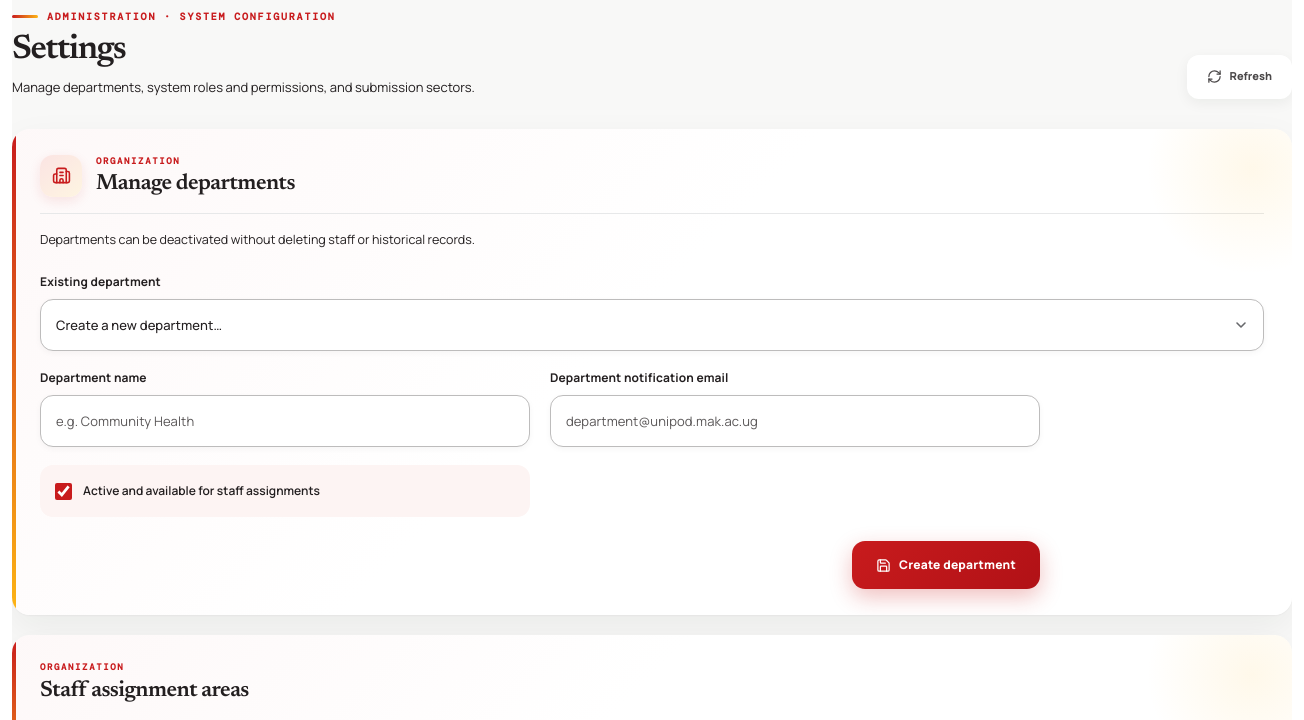
Test: AdminManagementPage › creates a department and allows its lifecycle to be managed
The image size is (1304, 720).
Check: the heading "Manage departments" is shown, box 96,171 -> 295,197
Type "Community Health" into the field labelled "Department name" at (285, 421), box 40,395 -> 530,447
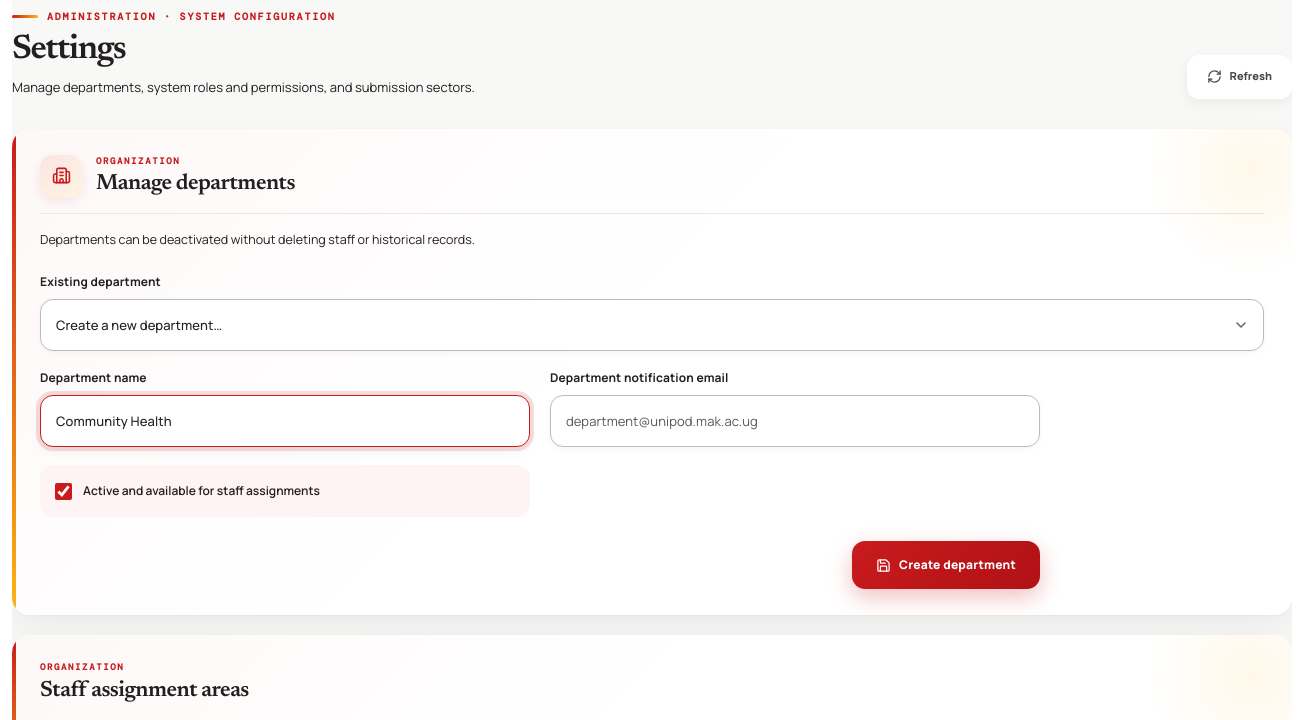
Type "community@unipod.test" into the field labelled "Department notification email" at (795, 421), box 550,395 -> 1040,447
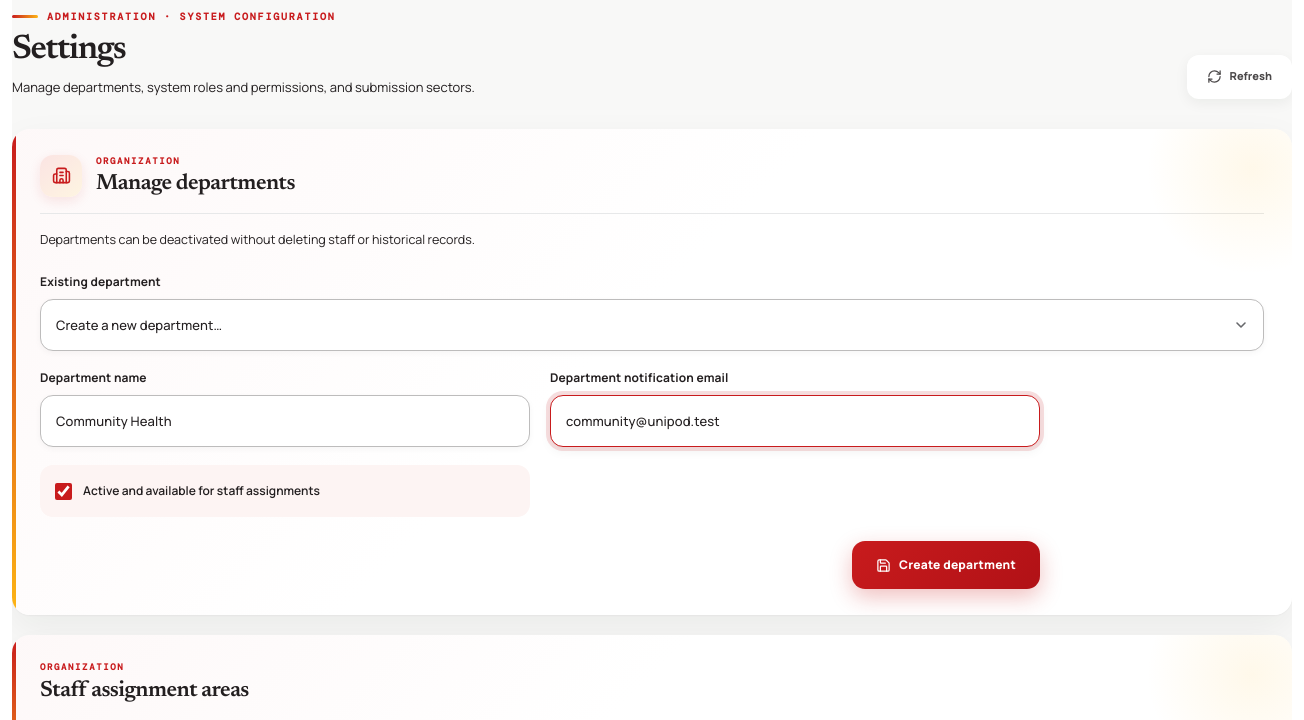
Click the button "Create department" at (946, 565), box 852,541 -> 1040,589
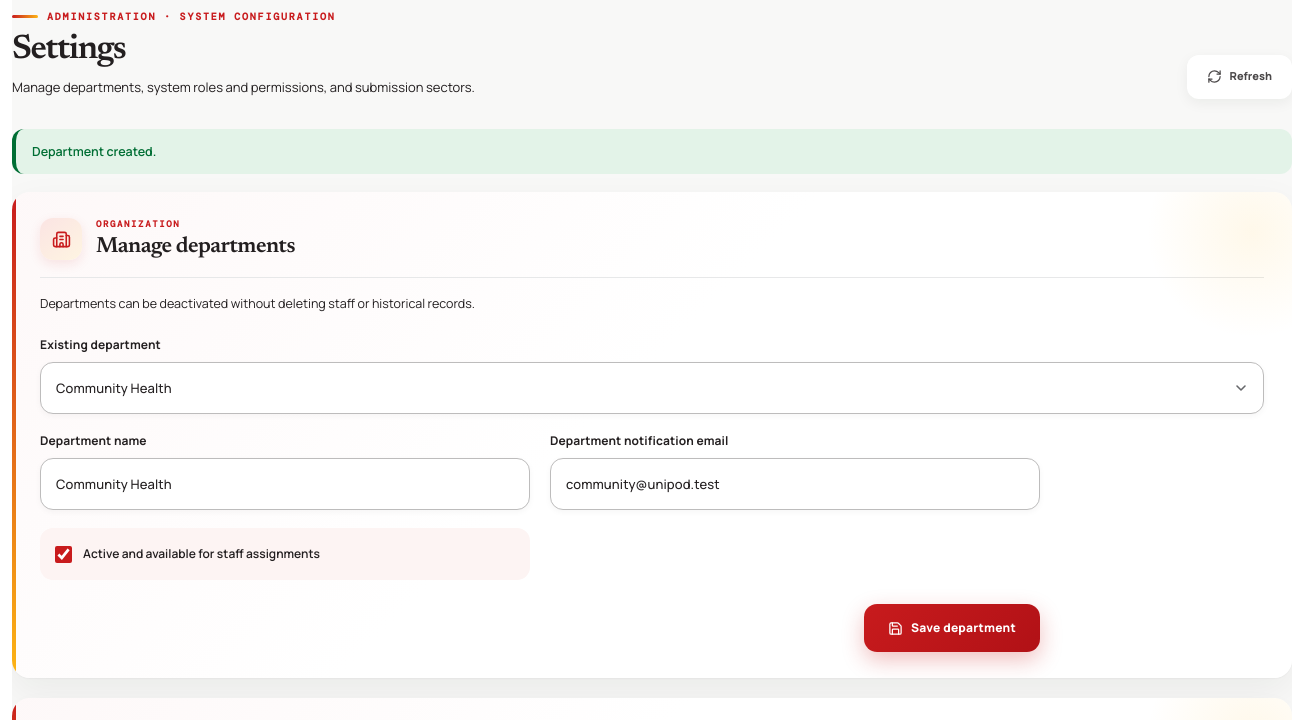
Check: the message reads "Department created.", box 32,142 -> 156,160
